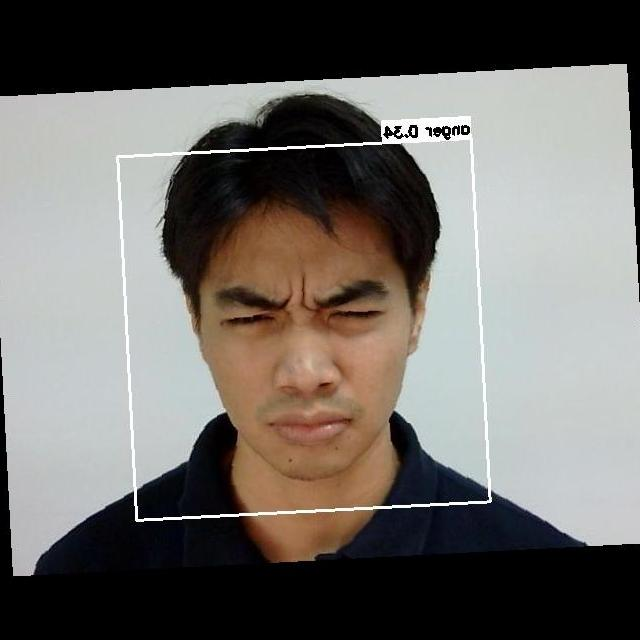Angry: (187, 238, 406, 461)
